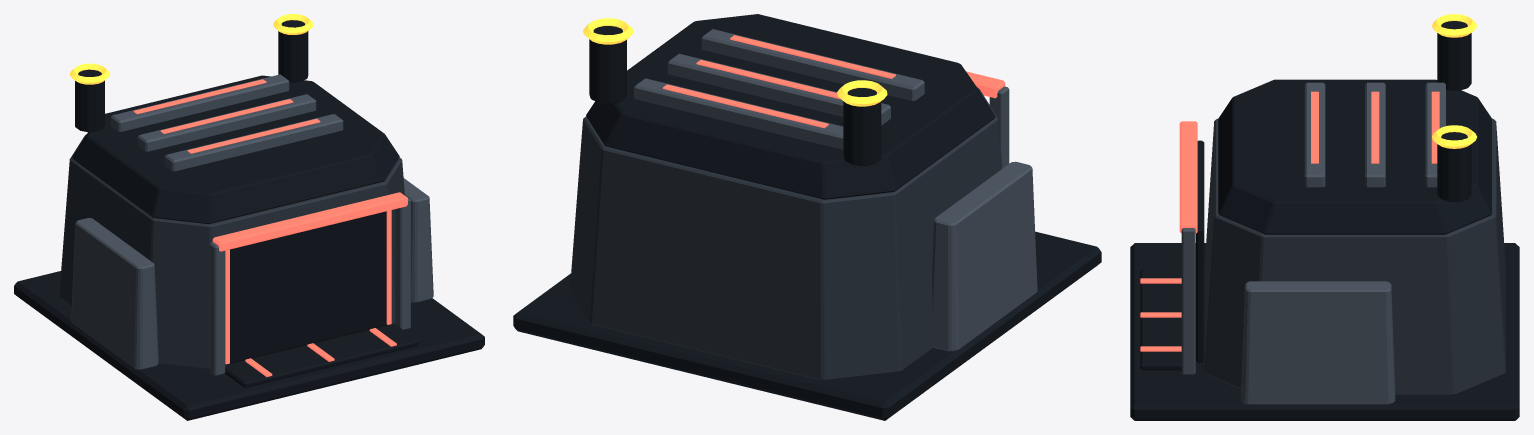
The model's file is m_factory.glb.
The picture shows the model from 3 angles, left to right: view 1: azimuth 30°, elevation 25°; view 2: azimuth 150°, elevation 25°; view 3: azimuth 270°, elevation 25°; orthographic projection. The views are drawn at different scales.
Parts seen in each view (by area): view 1: Forge; view 2: Forge; view 3: Forge.
Boxes of the visible parts, bbox=[...] form: Forge: bbox=[14, 14, 484, 420]; Forge: bbox=[513, 14, 1101, 420]; Forge: bbox=[1130, 14, 1519, 420].
Size of the model in its own units: 5.8 by 4.33 by 5.8.
